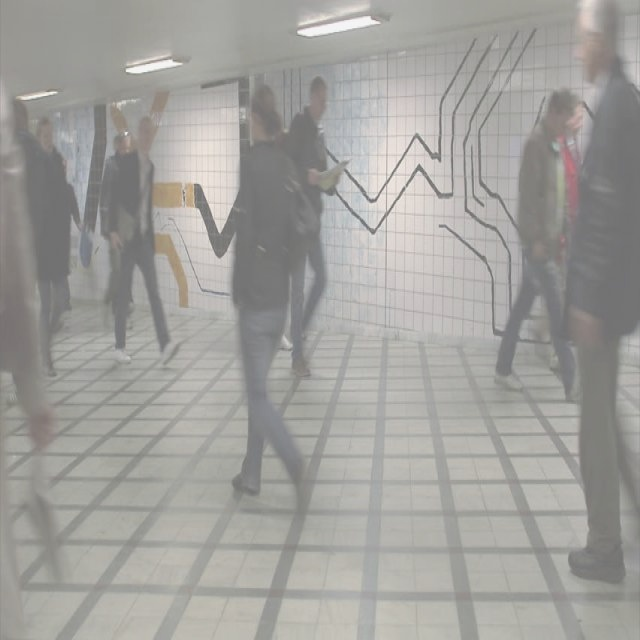pessoa: (558, 0, 640, 587), (230, 81, 316, 511), (0, 82, 63, 637), (492, 82, 594, 408), (106, 114, 184, 366), (282, 70, 342, 380), (524, 94, 578, 378), (4, 95, 51, 406), (27, 113, 72, 379), (252, 105, 298, 354), (98, 132, 130, 316), (101, 132, 127, 308), (60, 162, 80, 306)
